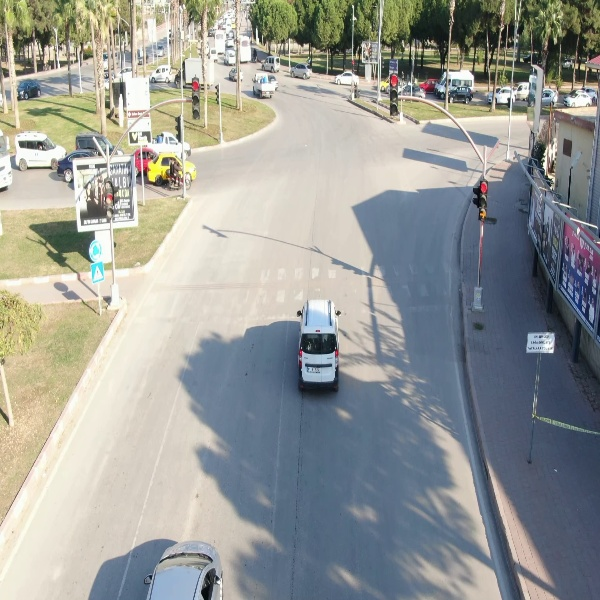car: (295, 296, 342, 394), (14, 131, 68, 174), (14, 76, 44, 102), (446, 83, 478, 103), (563, 90, 594, 108), (333, 69, 363, 87), (149, 63, 173, 85), (259, 54, 284, 73), (288, 63, 315, 80)
